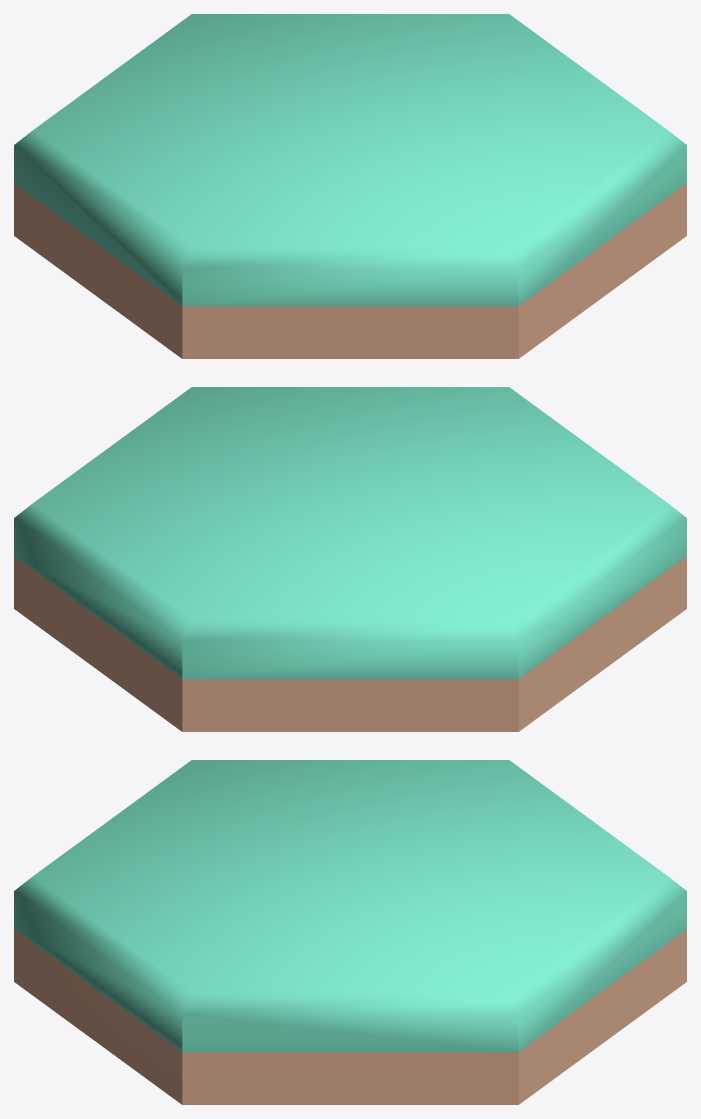
File: grass2.fbx
3 views of the same model, one above another, from view 1: azimuth 30°, elevation 25°; view 2: azimuth 150°, elevation 25°; view 3: azimuth 270°, elevation 25° (orthographic).
Visible parts, largest first — view 1: grass; view 2: grass; view 3: grass.
Boxes of the visible parts, x1,y1,x2,y2 form: grass: [14, 14, 686, 358]; grass: [14, 387, 686, 731]; grass: [14, 760, 686, 1104].
Bounding box in the file's own units: 100 × 20 × 115.
